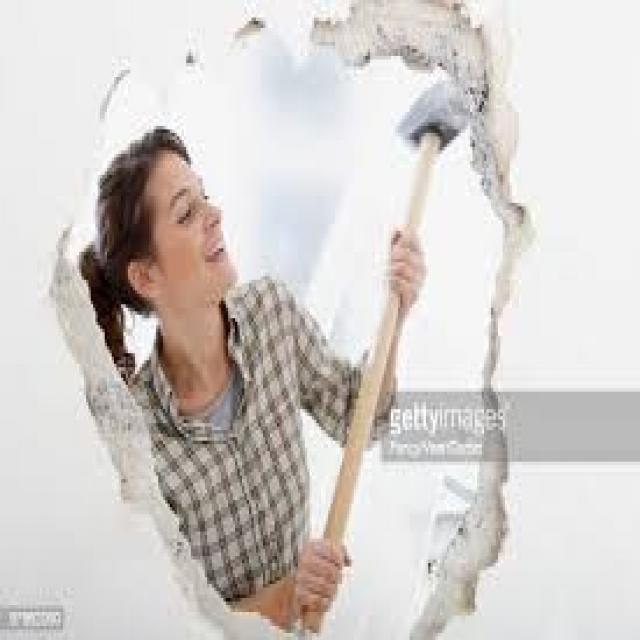hammer: (286, 49, 475, 636)
